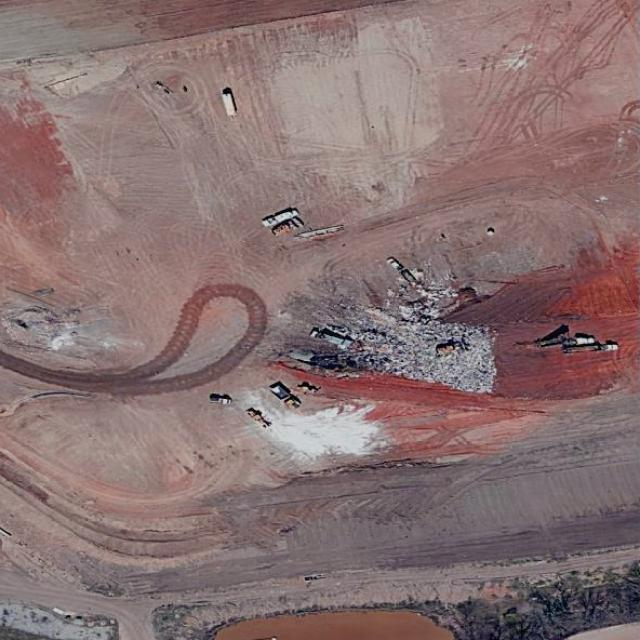dump_site: (294, 259, 512, 395)
